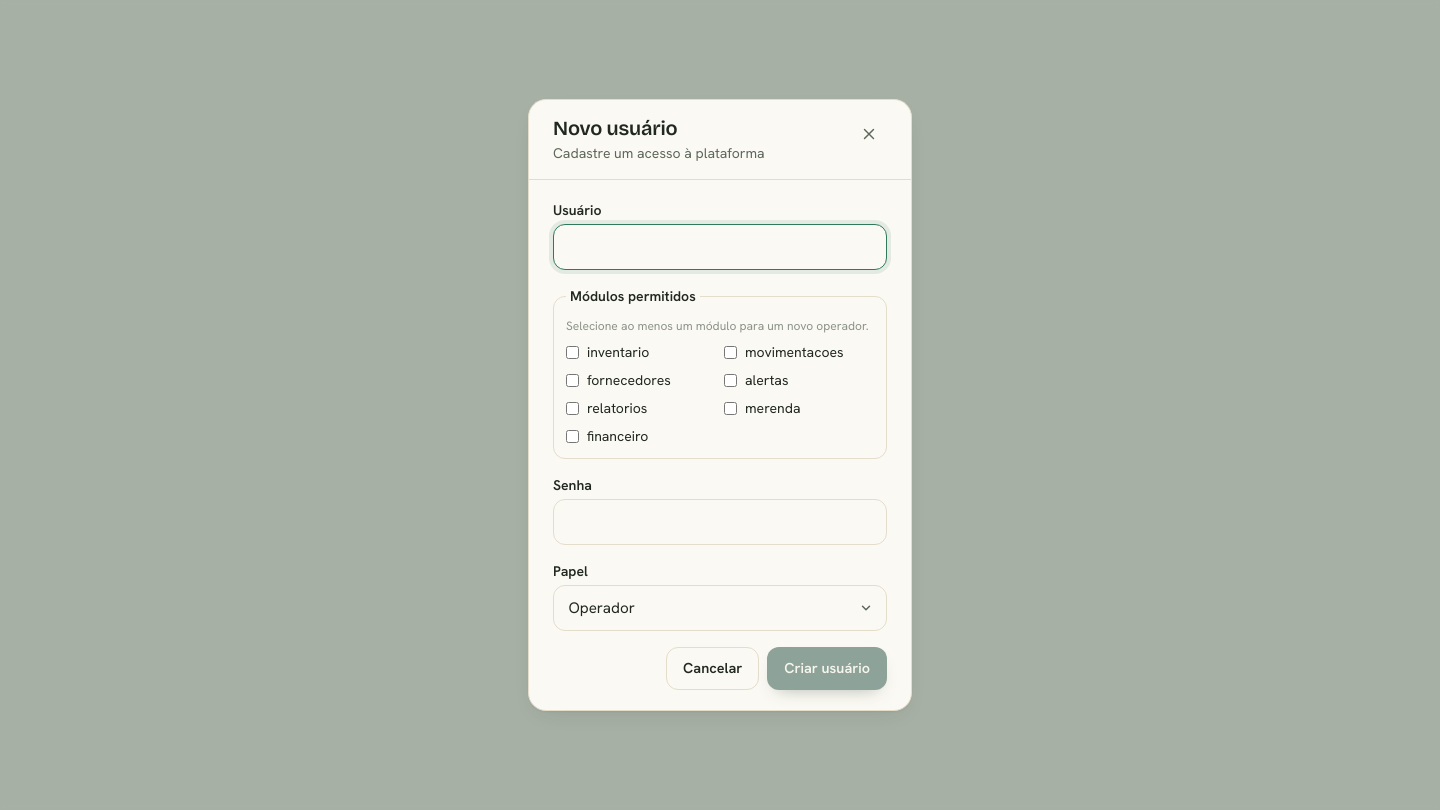
NewUserModal › mostra o erro da API e mantém o modal aberto quando a criação falha
Type "maria" into the field labelled "Usuário" at (720, 247), box [553, 224, 887, 270]
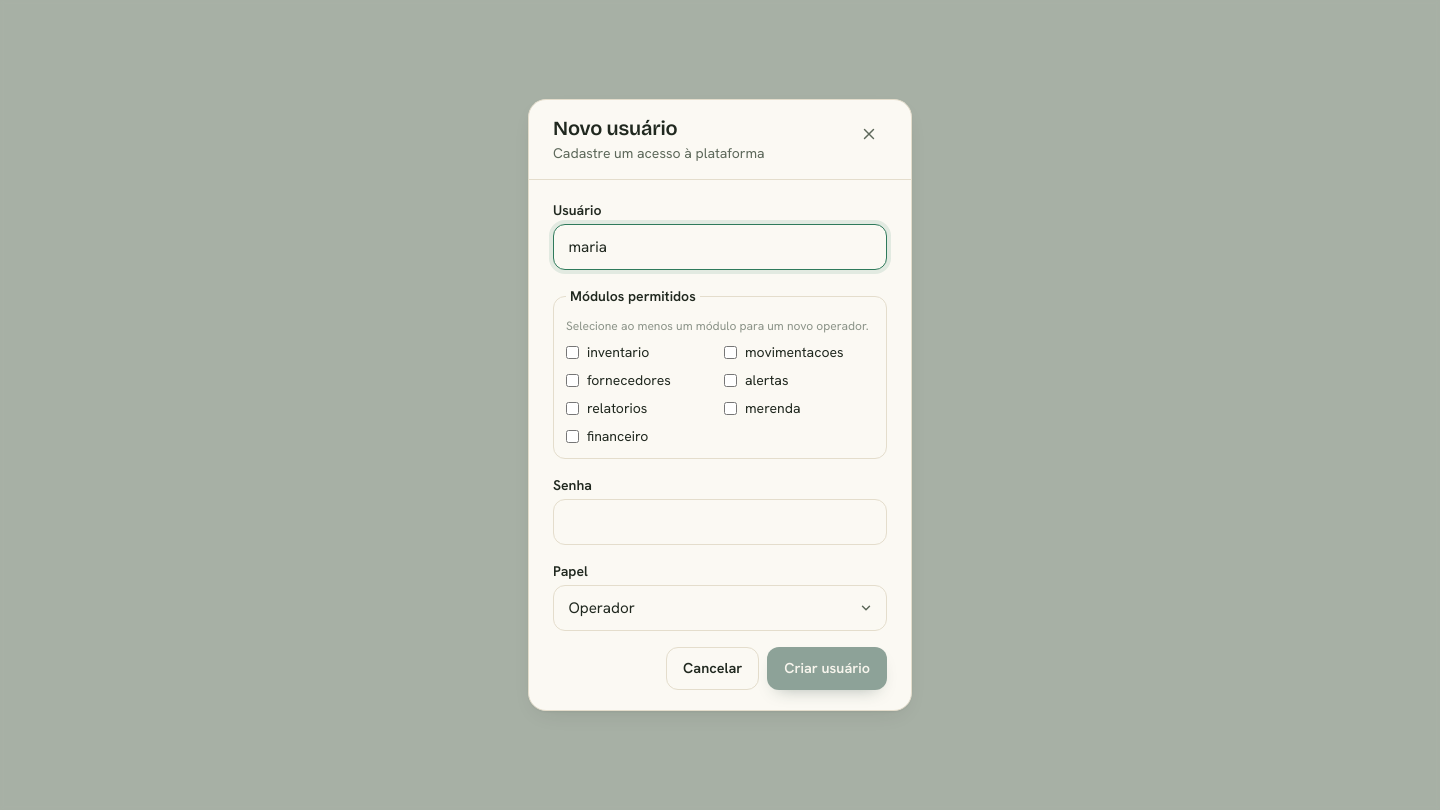
Type "senha-boa-123" into the password field labelled "Senha" at (720, 522), box [553, 499, 887, 545]
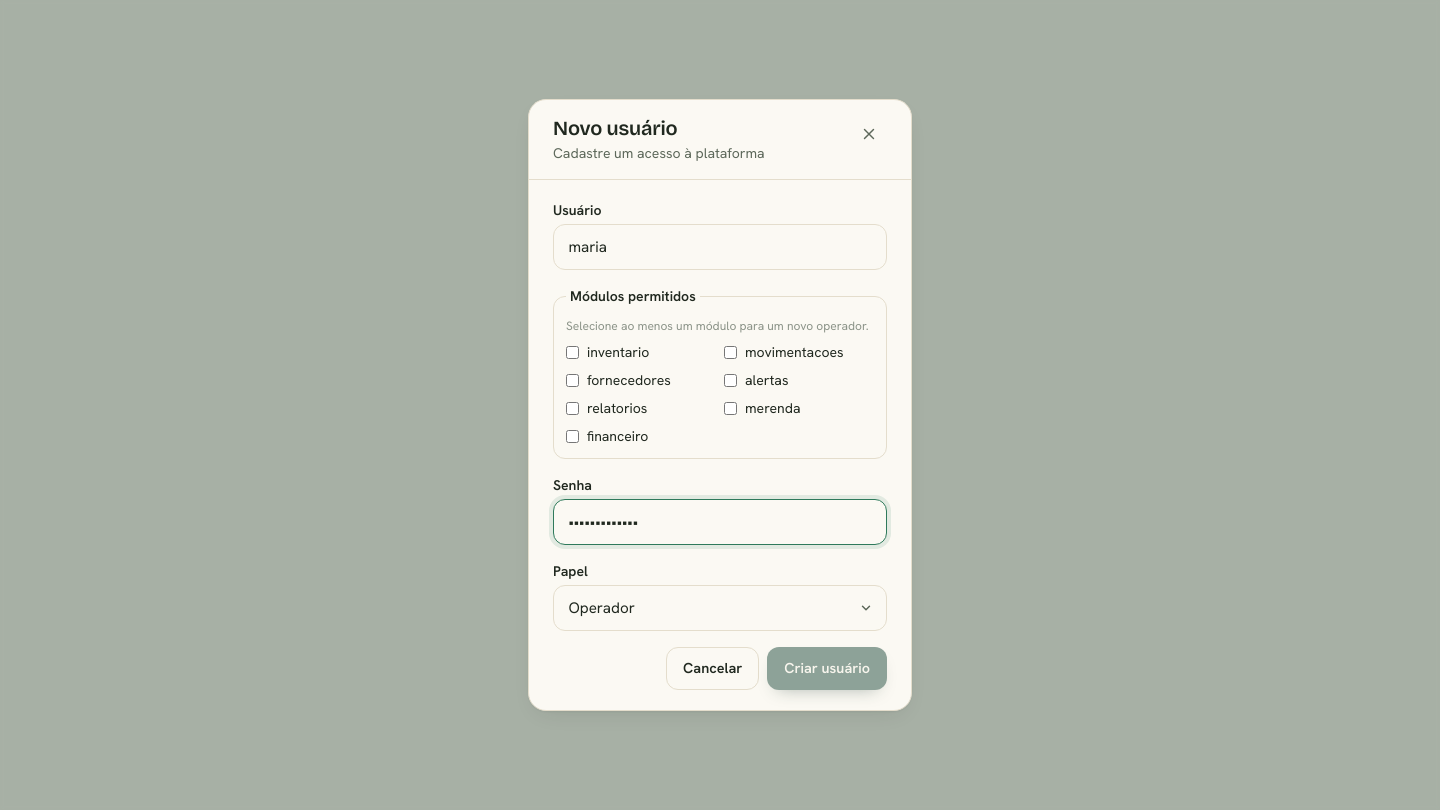
Click the checkbox labelled "inventario" at (572, 352), box [566, 346, 579, 359]
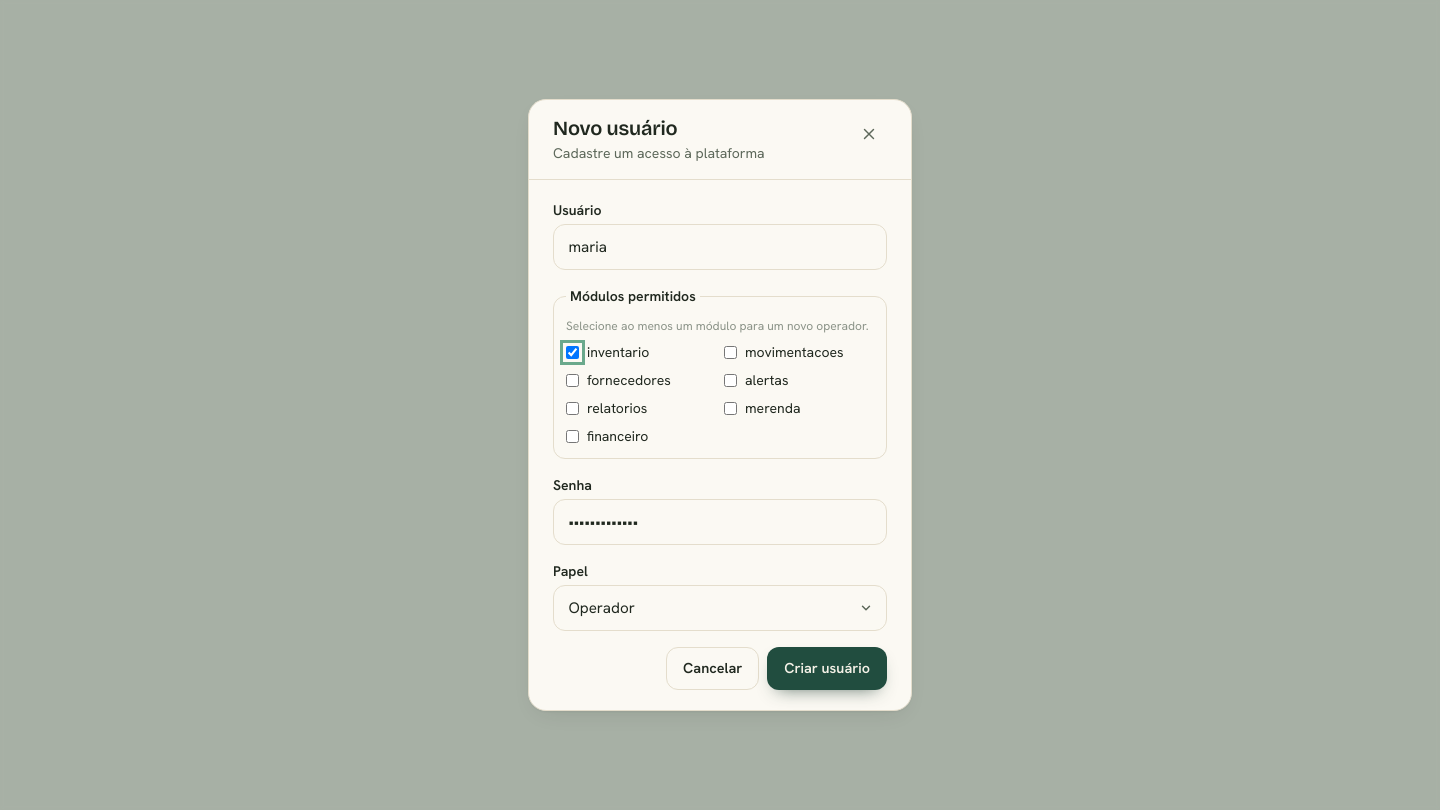
Click the button "Criar usuário" at (827, 668), box [767, 647, 887, 690]
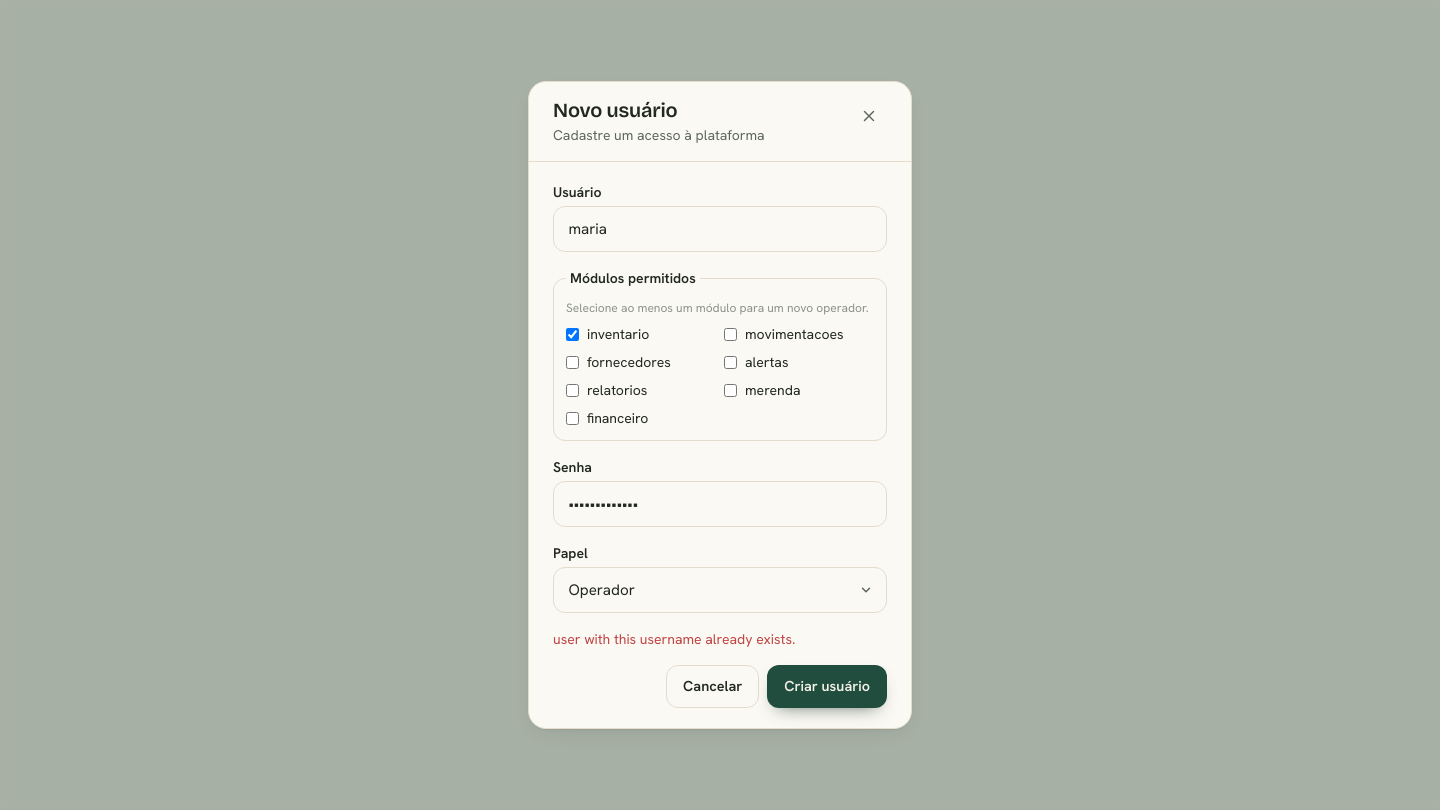
Expected: the text "user with this username already exists." is shown, [553, 630, 795, 648]
